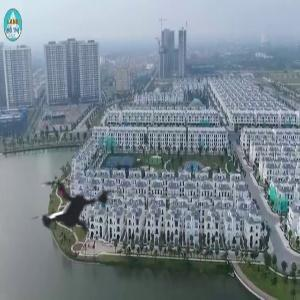drone: (5, 136, 146, 277)
